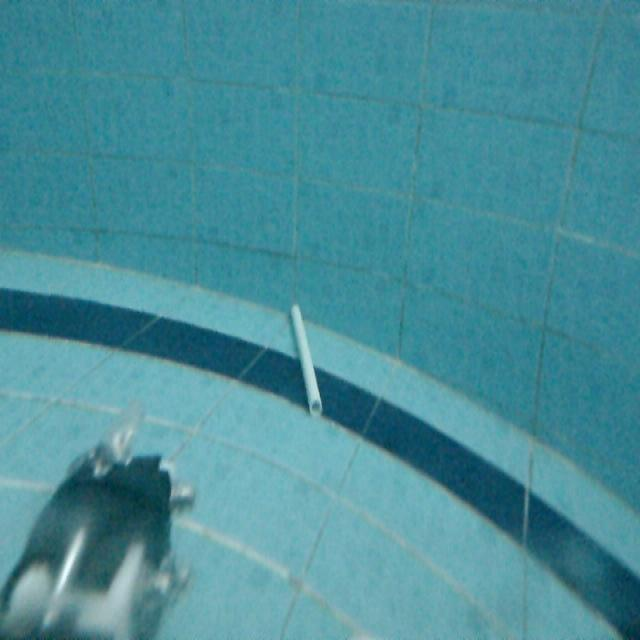Cube: (287, 294, 328, 424)
